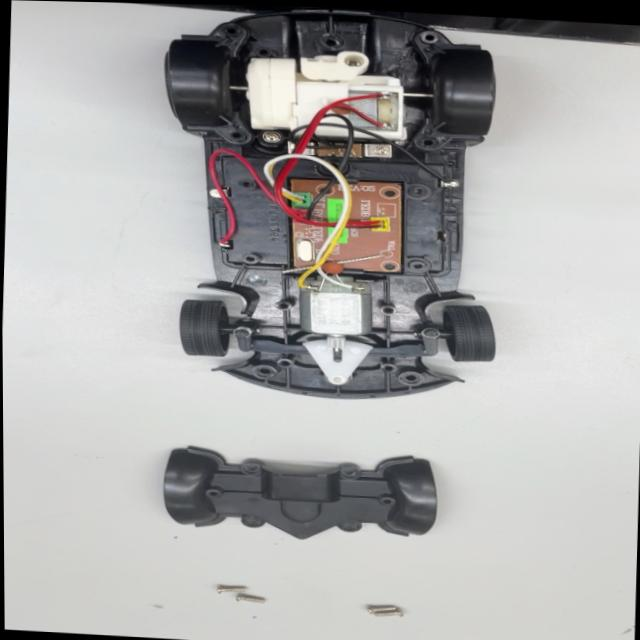Chassis: (192, 15, 500, 396)
motor: (304, 280, 385, 354)
motor_cover: (151, 440, 444, 555)
screw: (353, 598, 410, 625), (206, 576, 250, 599), (235, 590, 275, 611)
wheel: (169, 297, 242, 366), (438, 304, 505, 368)
